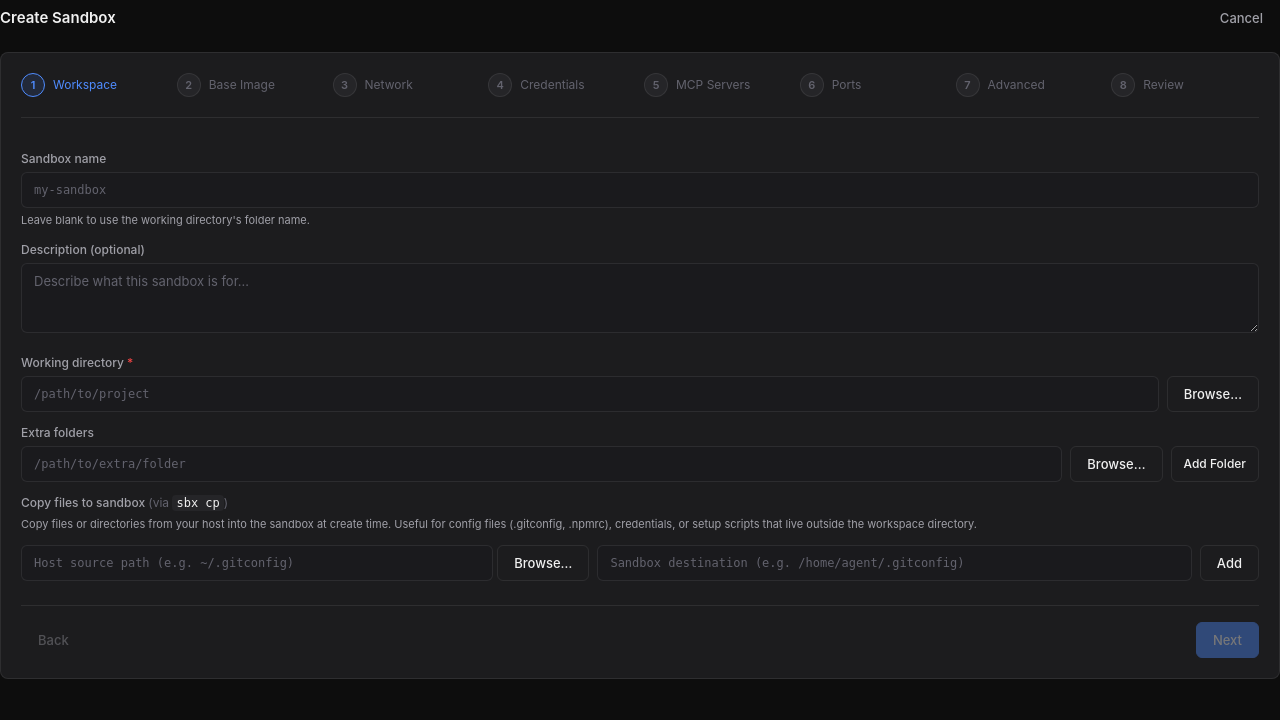
Test: CreateDefinition wizard › adds an extra folder (default read-only) and toggles its access to read-write
The width and height of the screenshot is (1280, 720).
Type "/home/u/shared" into the field named "Extra folder path" at point(542, 464), box [21,446,1062,482]
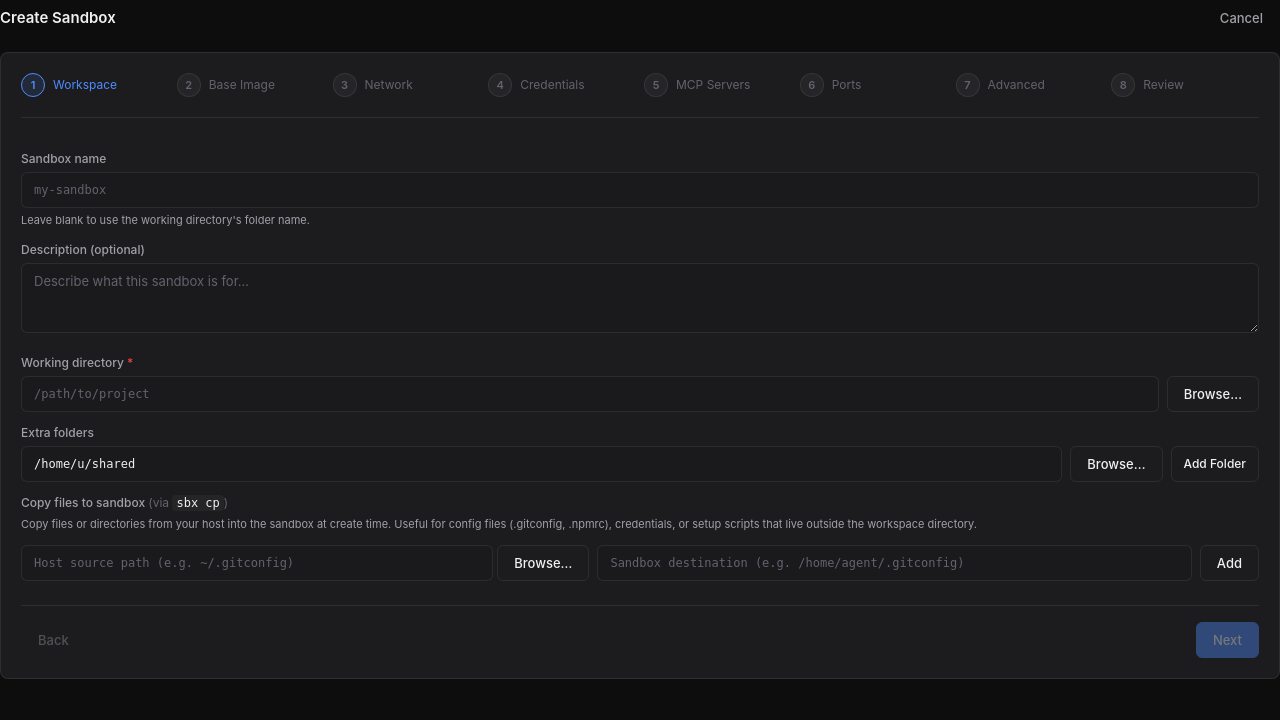
Click the button "Add Folder" at point(1215, 464), box [1170,446,1259,482]
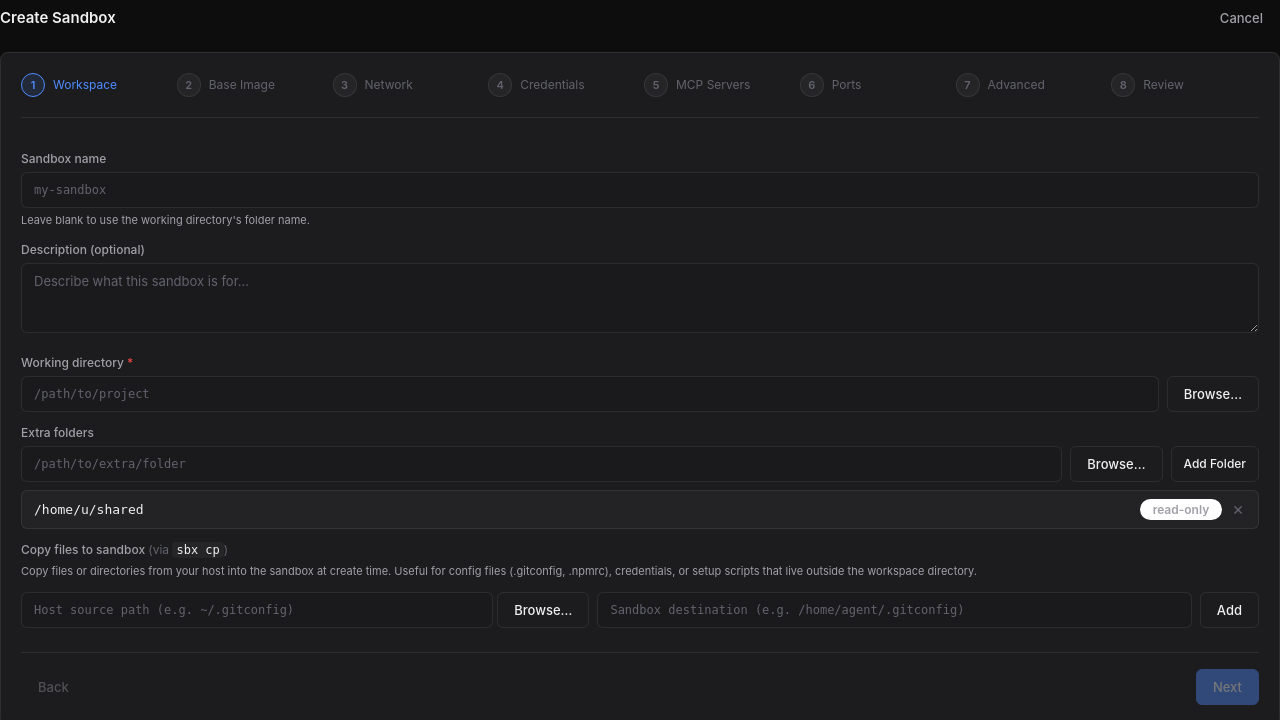
Click the button with aria-label "home/u/shared: read-only" at point(1181, 510), box [1140,499,1222,520]
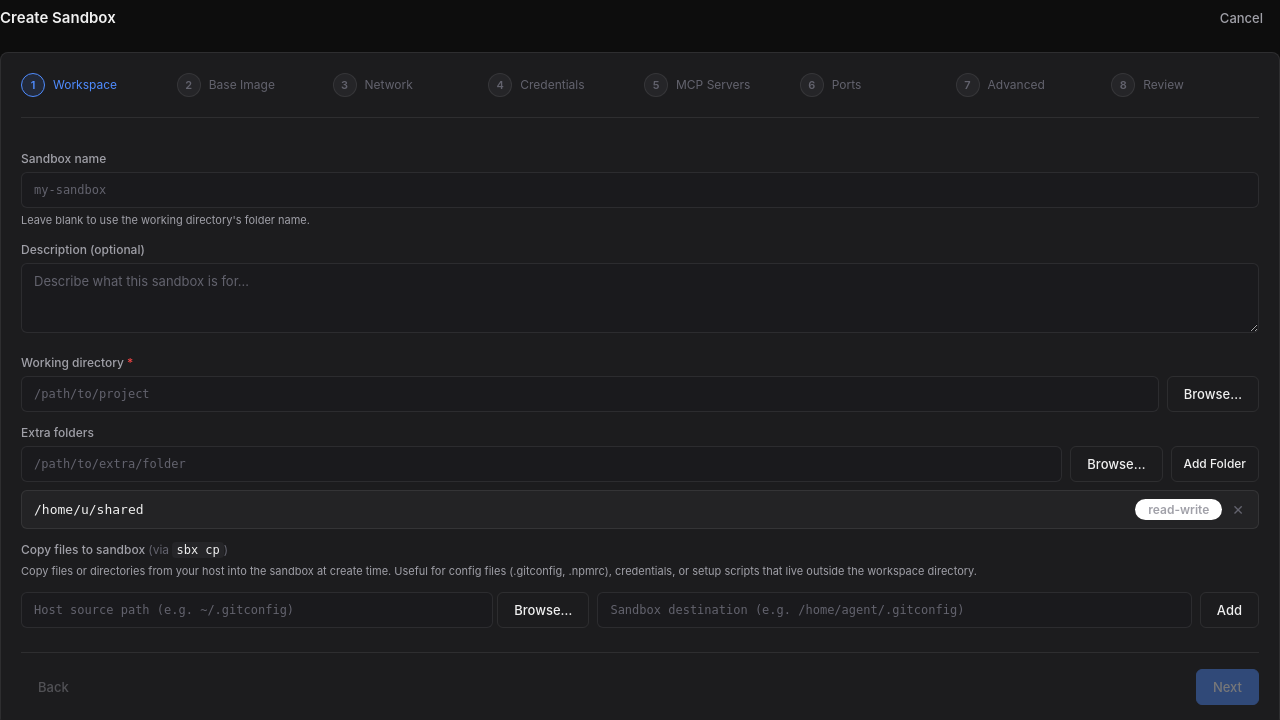
Expected: the button with aria-label "home/u/shared: read-write" is shown, [1135,499,1222,520]
